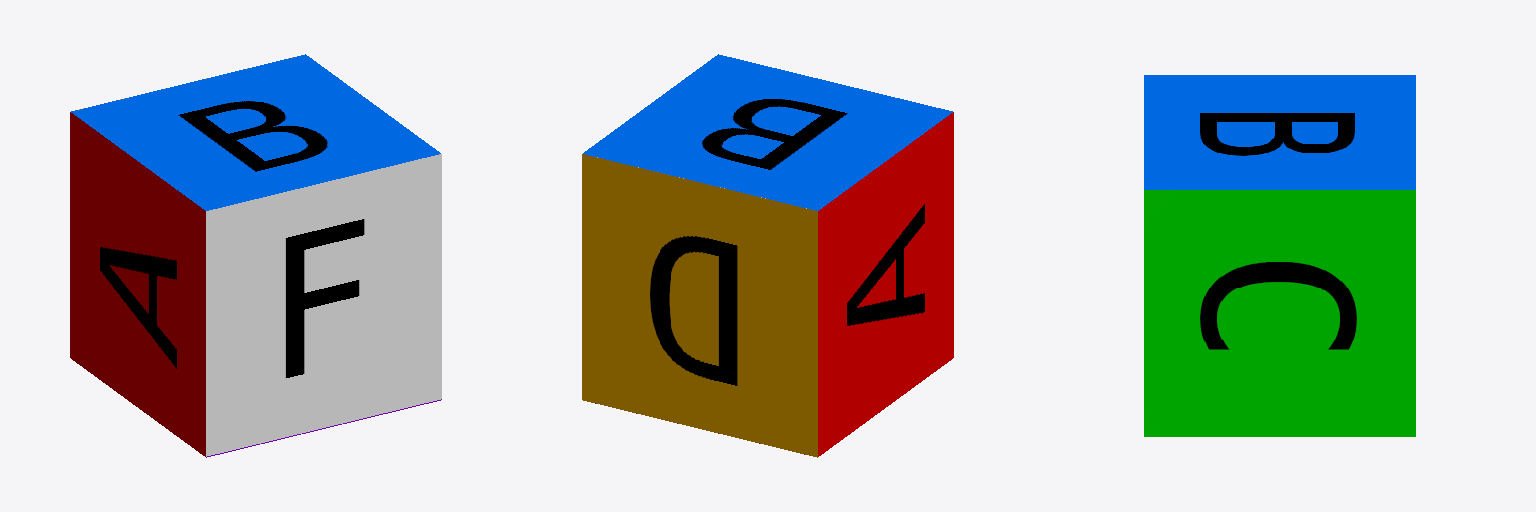
3 views of the same model, side by side, from view 1: azimuth 30°, elevation 25°; view 2: azimuth 150°, elevation 25°; view 3: azimuth 270°, elevation 25° (orthographic).
Parts seen in each view (by area): view 1: Cube; view 2: Cube; view 3: Cube.
Boxes of the visible parts, <box> form: Cube: <box>70,54,441,457</box>; Cube: <box>582,54,953,457</box>; Cube: <box>1144,75,1415,436</box>.
Size of the model in its own units: 2 by 2 by 2.
Materials: 1 (1 with a texture image).